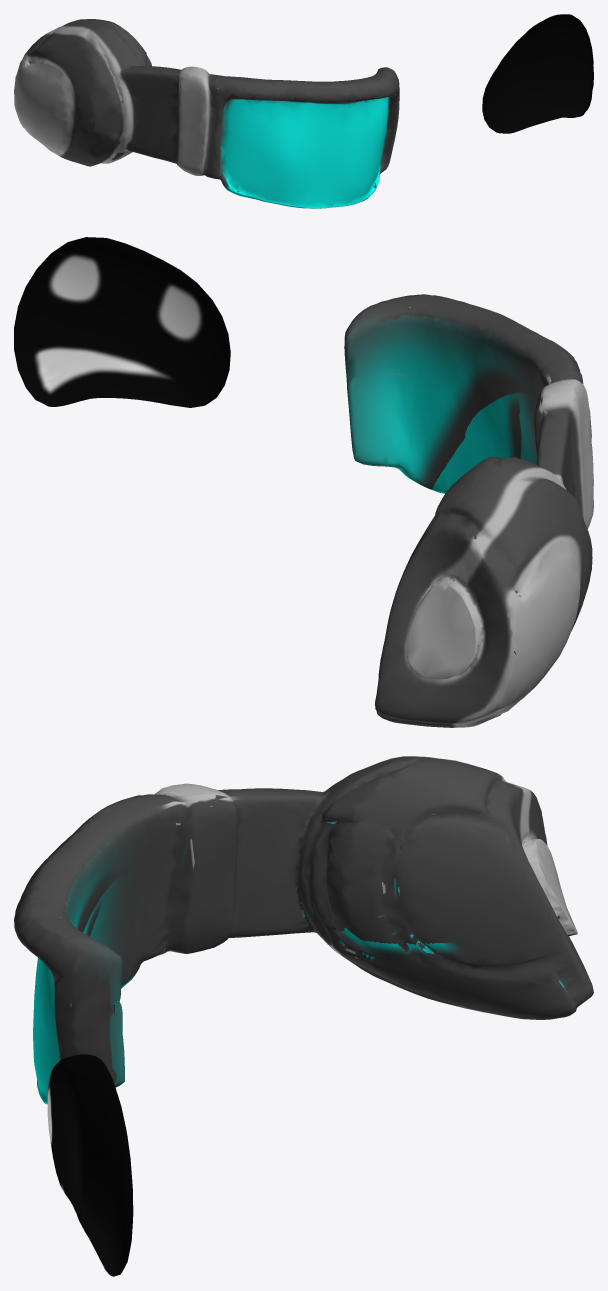
The model's file is Scanner Teal.glb.
3 views of the same model, one above another, from view 1: azimuth 30°, elevation 25°; view 2: azimuth 150°, elevation 25°; view 3: azimuth 270°, elevation 25° (orthographic). The views are drawn at different scales.
Parts seen in each view (by area): view 1: Sphere.002; view 2: Sphere.002; view 3: Sphere.002.
Part boxes in pixels (bbox=[...]): Sphere.002: bbox=[14, 14, 593, 208]; Sphere.002: bbox=[14, 237, 593, 727]; Sphere.002: bbox=[14, 756, 593, 1276].
Size of the model in its own units: 0.5042 by 0.1554 by 0.3325.
Materials: 2 (2 with a texture image).
